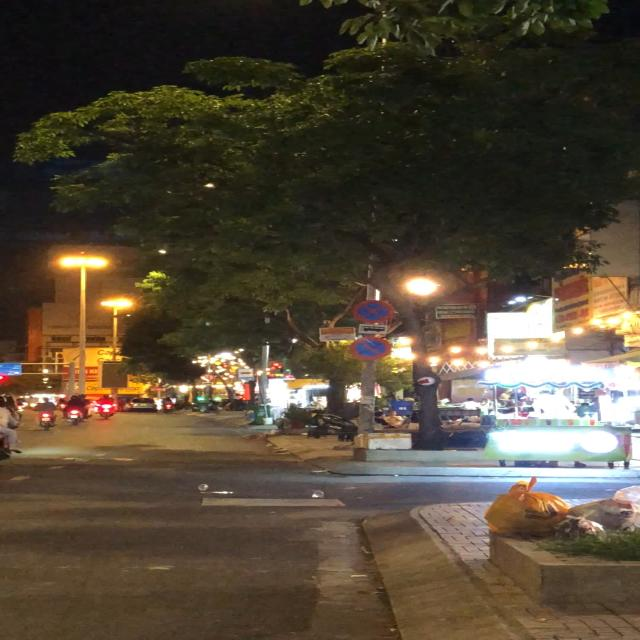Bien bao cam do xe: (349, 336, 395, 362)
Bien bao cam dung xe va do xe: (354, 298, 394, 324)
